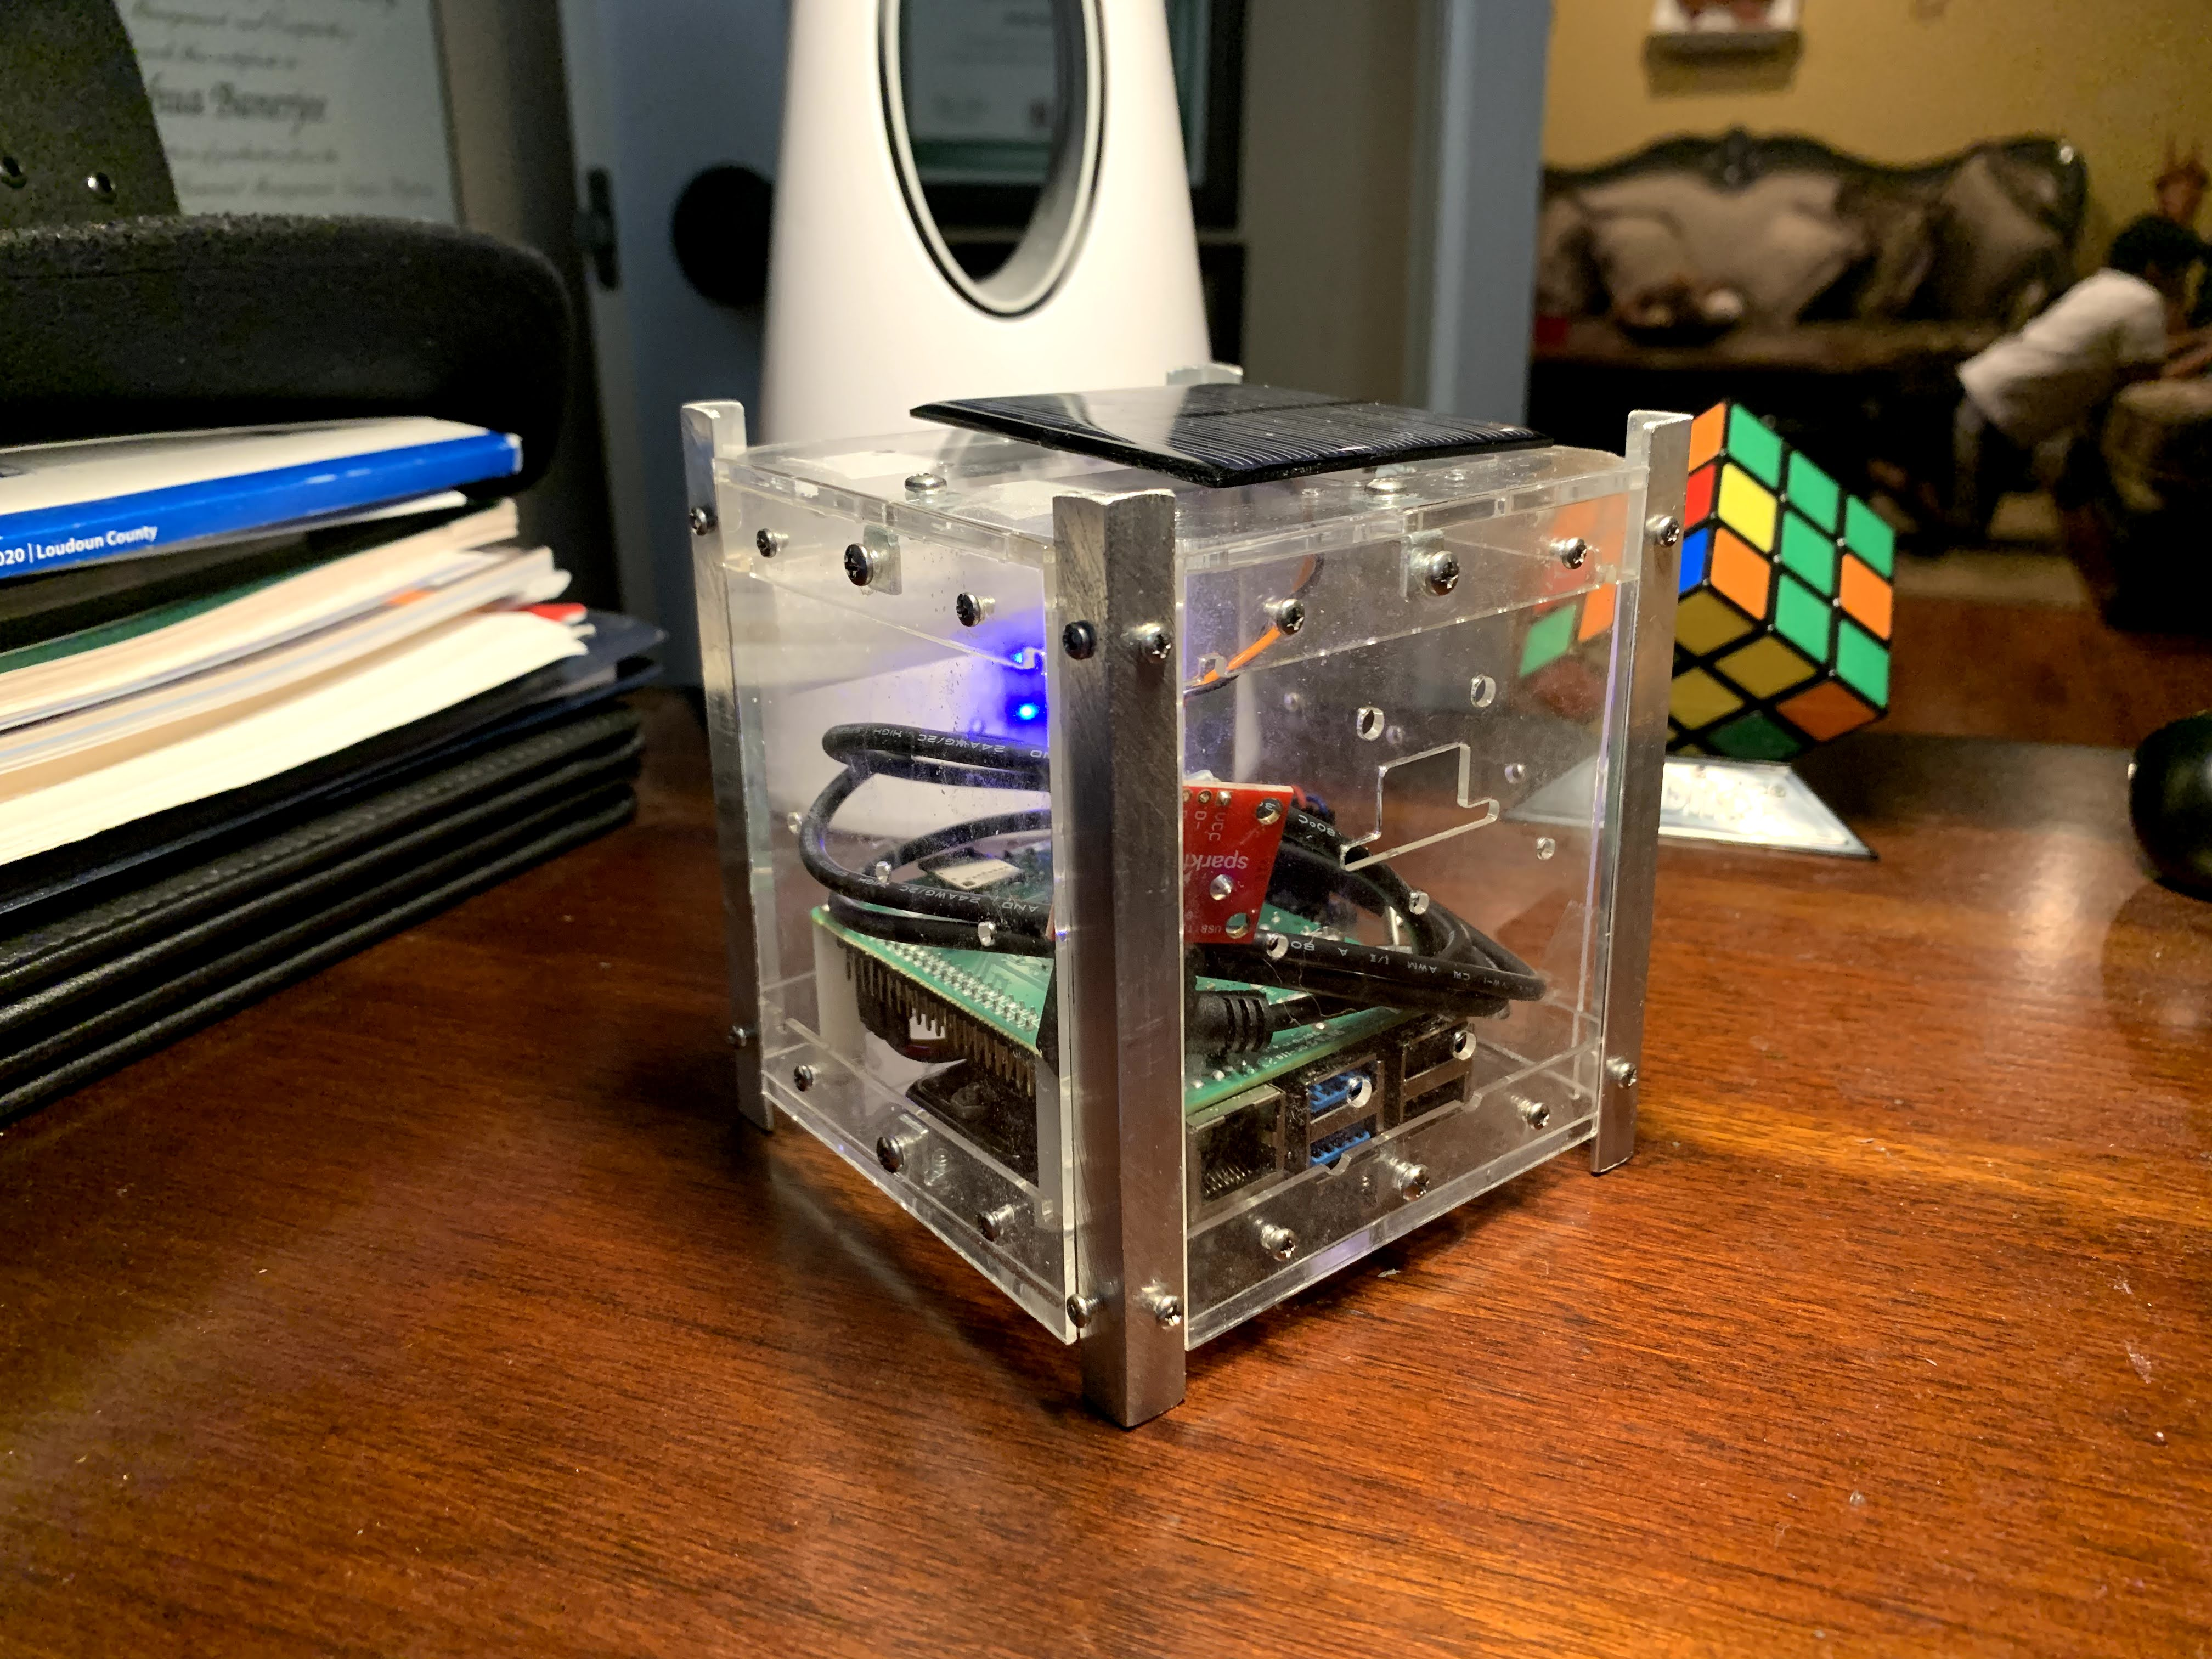Space-debris-cubesat: (618, 336, 1721, 1441)
